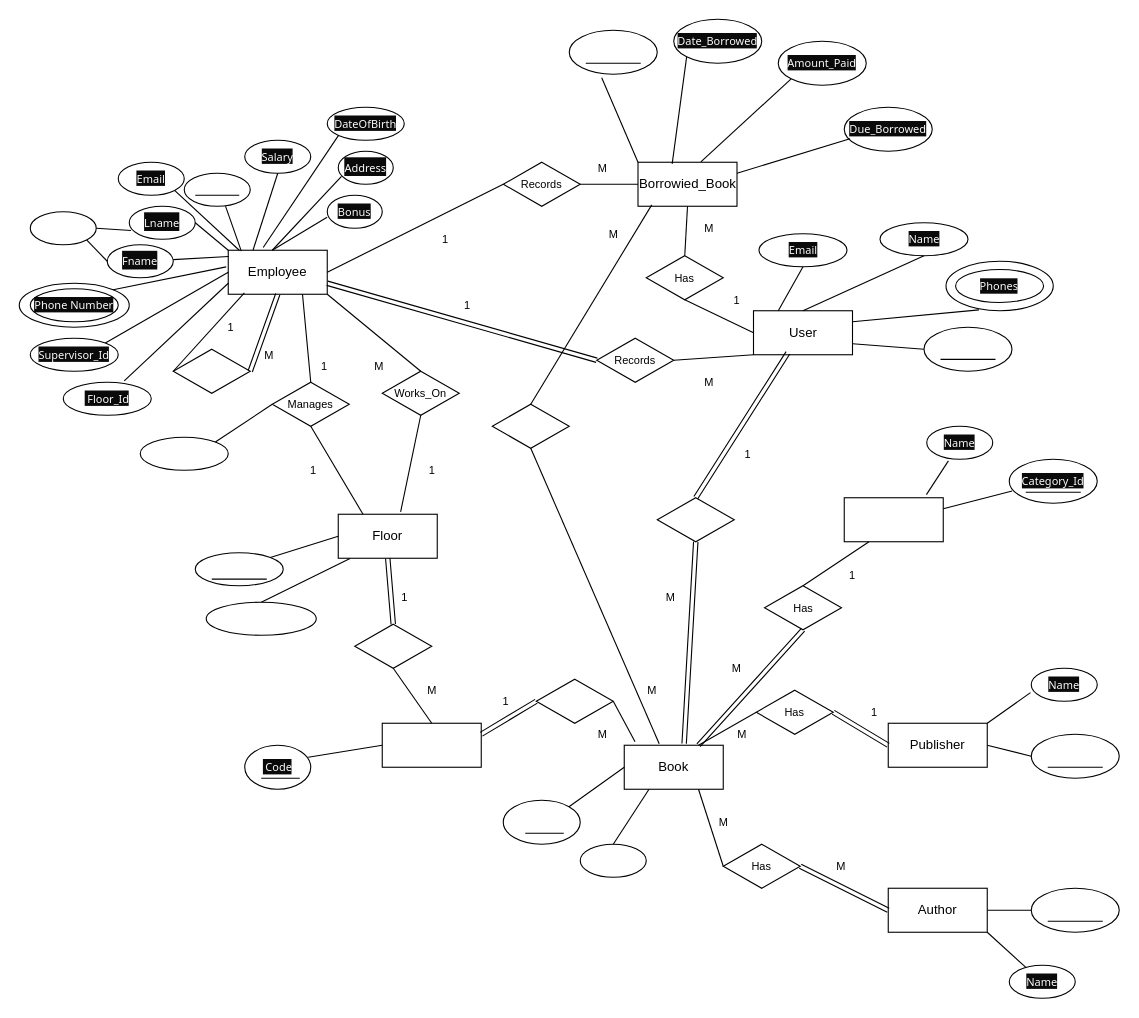
Some shapes in this 1139 by 1018 pixel diagram are drawn without their labels. The shapes that lost their labels are listed below. From the top down, each one's centre as x and y in pixels, then its label:
(x=612, y=51): Borrowing_Id
(x=216, y=189): Emp_id
(x=62, y=228): Full_Name
(x=967, y=348): SSN
(x=211, y=370): Supervise
(x=530, y=425): Involvess
(x=183, y=453): Hiring Date
(x=695, y=519): Borrows
(x=893, y=519): Category
(x=238, y=569): Floor_Number
(x=260, y=618): Number_of_Blocks
(x=393, y=645): Located_On
(x=574, y=700): Contains
(x=431, y=744): Shelf
(x=1074, y=755): Publisher_Id
(x=541, y=821): Book_Id
(x=612, y=860): Title
(x=1074, y=909): Author_Id
